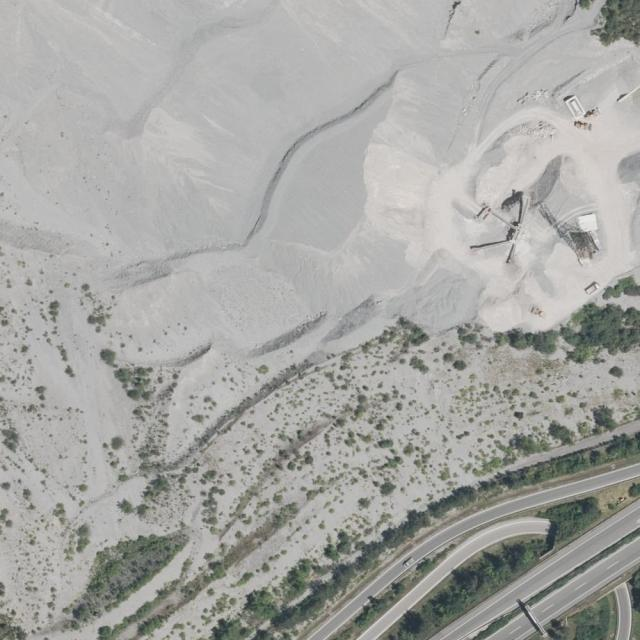greenland: (201, 490, 443, 640), (423, 428, 640, 521), (531, 489, 608, 552), (349, 570, 416, 632), (544, 595, 626, 640), (413, 538, 454, 577), (601, 276, 640, 300)
metalled_road: (529, 536, 640, 626), (506, 419, 640, 474), (486, 612, 536, 640), (614, 582, 632, 639)
